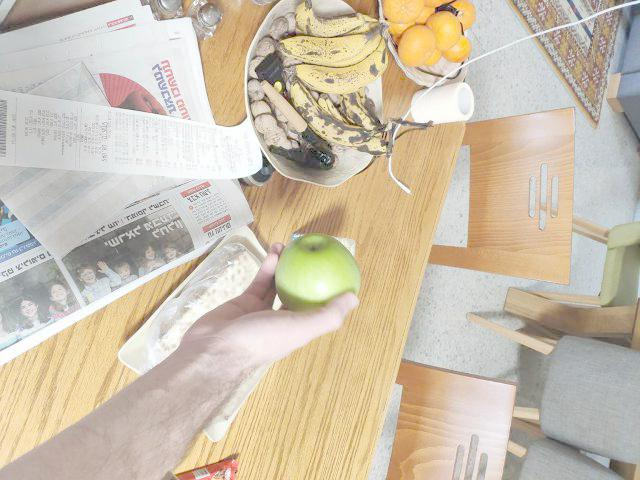apple: (267, 233, 370, 326)
